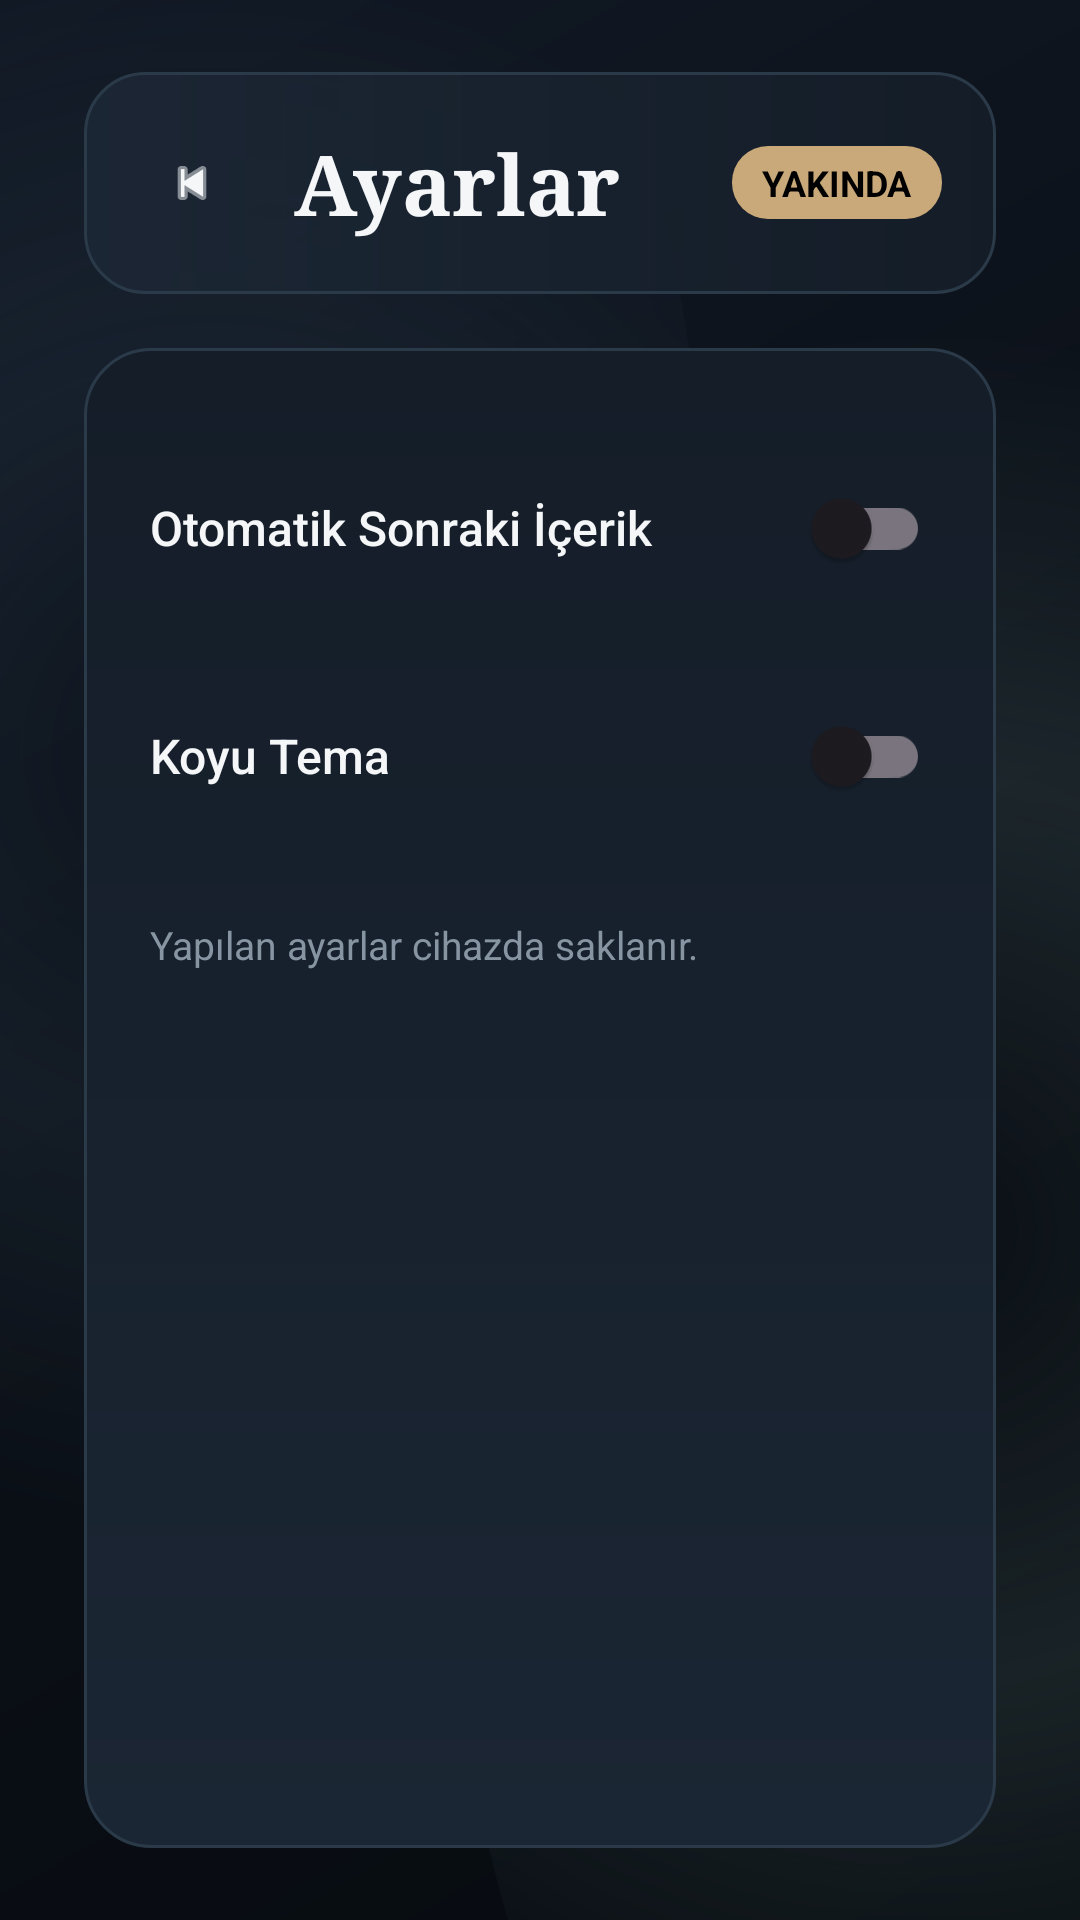

Where to tap for icons on this 1080 x 1920 app screen, as (x=x, y=y):
previous: (x=192, y=183)
